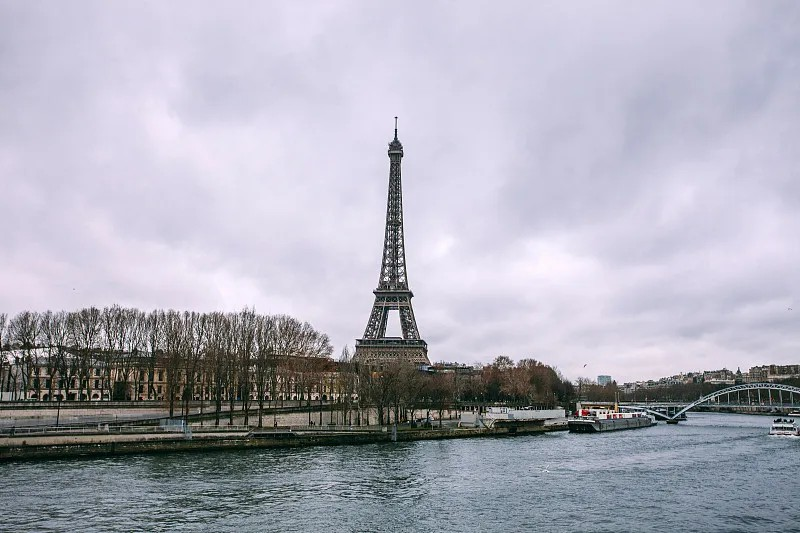Eiffel: (350, 117, 429, 369)
